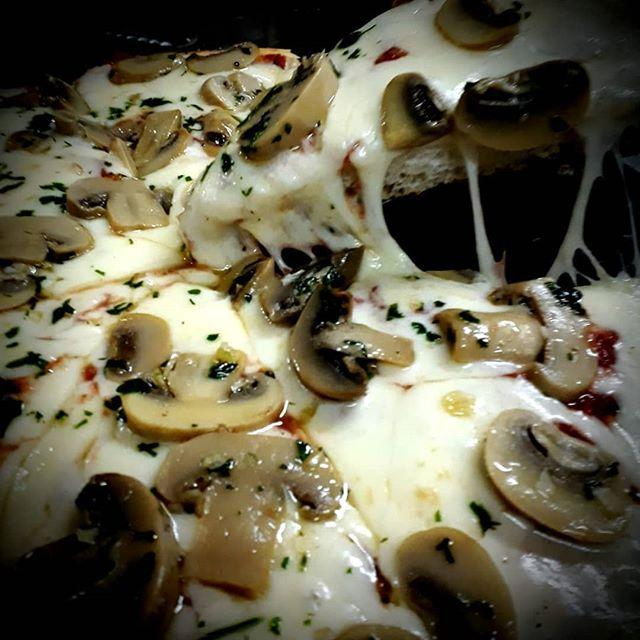champignon: (149, 436, 352, 597), (482, 403, 636, 549), (292, 278, 429, 406), (108, 353, 293, 434), (249, 57, 336, 160), (436, 303, 549, 369), (58, 172, 177, 233), (106, 311, 174, 383)
